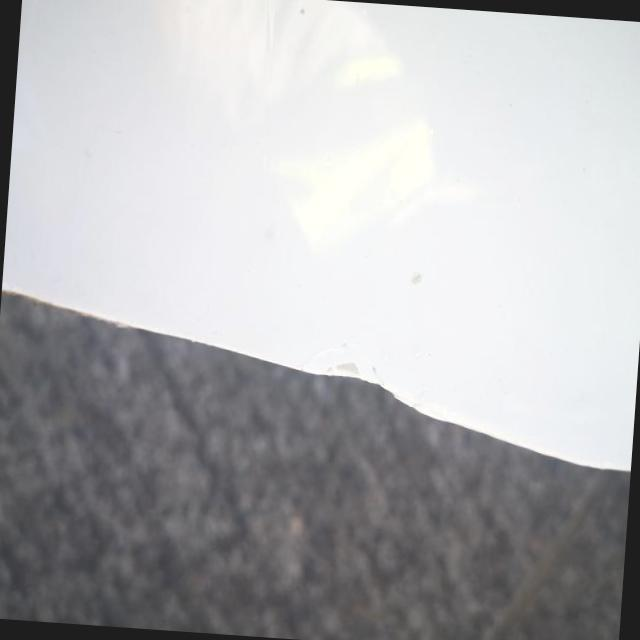dent: (290, 314, 447, 430)
